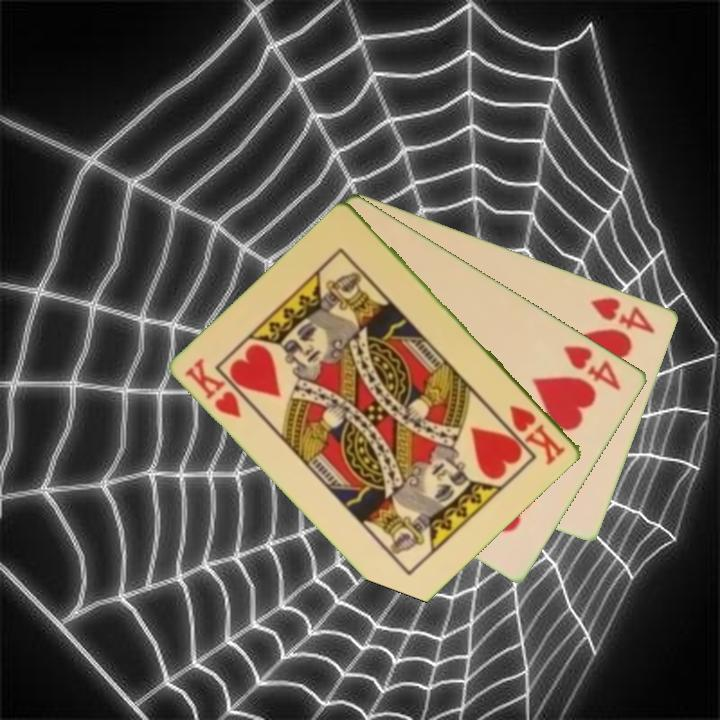4h: (560, 341, 625, 393), (587, 293, 658, 336)
Kh: (506, 401, 569, 468), (182, 354, 245, 421)
